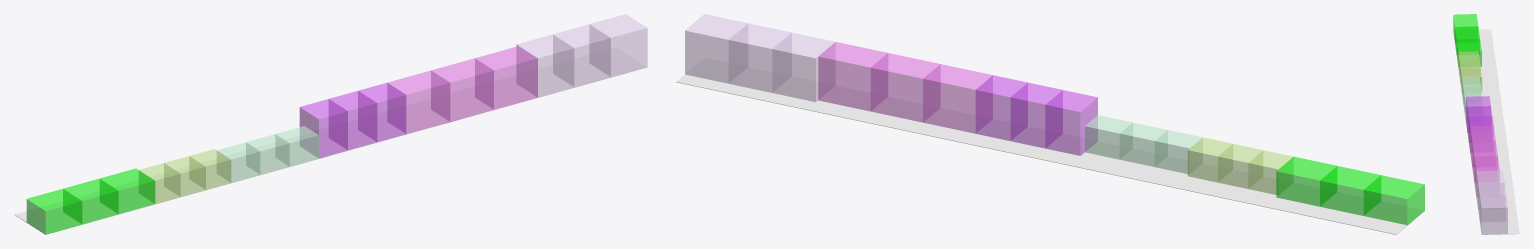
Rendered from RoomRow.glb.
3 renders of one model, left to right at view 1: azimuth 30°, elevation 25°; view 2: azimuth 150°, elevation 25°; view 3: azimuth 270°, elevation 25°, orthographic. The views are drawn at different scales.
Visible parts, largest first — view 1: 7614_mesh, 7596_mesh, 7599_mesh, 7602_mesh, 7611_mesh, 7605_mesh, 7608_mesh, 7593_mesh, 7590_mesh, 7587_mesh, 7560_mesh, 7563_mesh (+7 smaller); view 2: 7614_mesh, 7599_mesh, 7596_mesh, 7602_mesh, 7605_mesh, 7608_mesh, 7611_mesh, 7587_mesh, 7590_mesh, 7593_mesh, 7560_mesh, 7566_mesh (+7 smaller); view 3: 7614_mesh, 7611_mesh, 7608_mesh, 7596_mesh, 7599_mesh, 7605_mesh, 7602_mesh, 7593_mesh, 7563_mesh, 7560_mesh, 7566_mesh, 7587_mesh (+7 smaller).
Part boxes in pixels (<box>): 7614_mesh: <box>14,47,647,234</box>; 7596_mesh: <box>387,70,450,133</box>; 7599_mesh: <box>431,58,493,121</box>; 7602_mesh: <box>475,46,537,109</box>; 7611_mesh: <box>589,14,647,76</box>; 7605_mesh: <box>516,34,574,97</box>; 7608_mesh: <box>553,24,610,87</box>; 7593_mesh: <box>358,83,406,142</box>; 7590_mesh: <box>329,91,377,150</box>; 7587_mesh: <box>299,99,347,158</box>; 7560_mesh: <box>26,189,82,234</box>; 7563_mesh: <box>63,178,118,224</box>; 7614_mesh: <box>676,58,1424,234</box>; 7599_mesh: <box>870,53,940,122</box>; 7596_mesh: <box>923,64,992,133</box>; 7602_mesh: <box>818,42,887,111</box>; 7605_mesh: <box>772,32,835,101</box>; 7608_mesh: <box>728,23,791,92</box>; 7611_mesh: <box>685,14,747,83</box>; 7587_mesh: <box>1045,90,1097,155</box>; 7590_mesh: <box>1010,82,1062,148</box>; 7593_mesh: <box>975,75,1027,140</box>; 7560_mesh: <box>1363,175,1424,225</box>; 7566_mesh: <box>1276,156,1336,206</box>; 7614_mesh: <box>1453,29,1519,234</box>; 7611_mesh: <box>1480,195,1507,234</box>; 7608_mesh: <box>1478,183,1506,221</box>; 7596_mesh: <box>1470,126,1495,167</box>; 7599_mesh: <box>1472,140,1497,182</box>; 7605_mesh: <box>1476,170,1504,209</box>; 7602_mesh: <box>1474,155,1499,196</box>; 7593_mesh: <box>1469,116,1493,152</box>; 7563_mesh: <box>1455,26,1479,54</box>; 7560_mesh: <box>1453,14,1478,42</box>; 7566_mesh: <box>1456,39,1481,66</box>; 7587_mesh: <box>1466,96,1490,132</box>.
Bounding box in the file's own units: 82.63 × 5 × 11.33.
